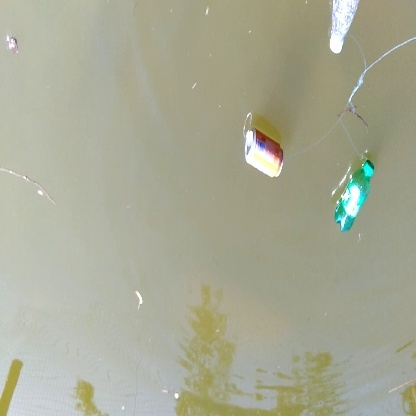bottle: (329, 156, 378, 233), (240, 125, 289, 182), (325, 1, 361, 53)
